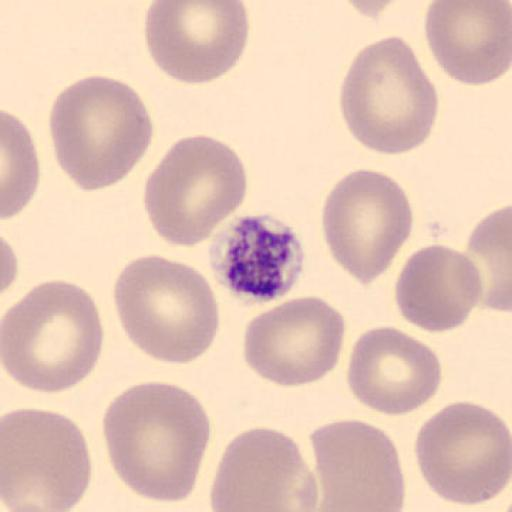Platelet: (208, 211, 308, 304)
RBC: (100, 379, 211, 504), (48, 74, 155, 194), (338, 33, 439, 156), (111, 253, 220, 366), (142, 133, 248, 248), (1, 277, 104, 394), (320, 167, 414, 286), (413, 399, 511, 508), (242, 296, 347, 388), (2, 406, 93, 512), (208, 426, 320, 512), (308, 417, 406, 512), (144, 0, 250, 86), (346, 324, 442, 416), (394, 242, 484, 333), (423, 0, 511, 86), (463, 202, 512, 315), (0, 108, 40, 222), (336, 0, 408, 20), (1, 233, 20, 296)
